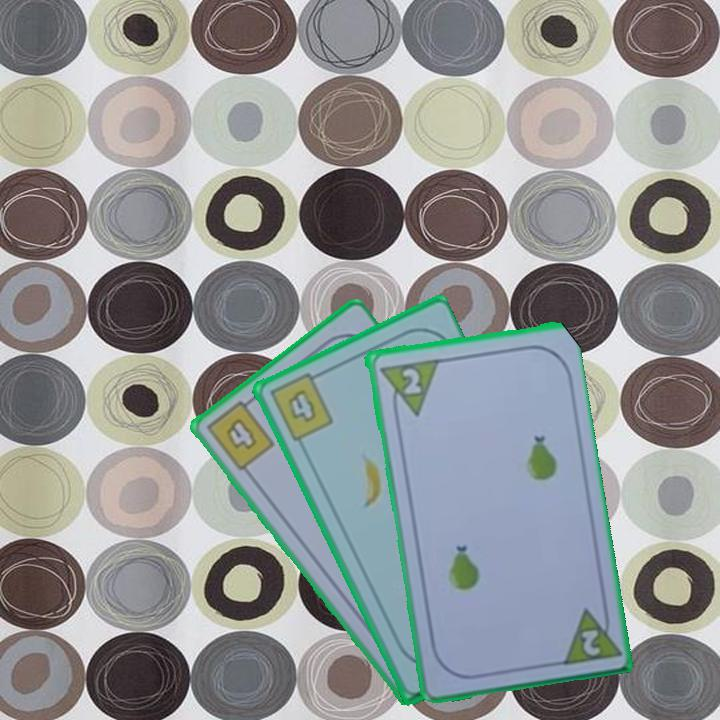2p: (556, 600, 621, 668), (398, 364, 424, 397)
4b: (202, 393, 278, 474), (266, 368, 336, 445)
